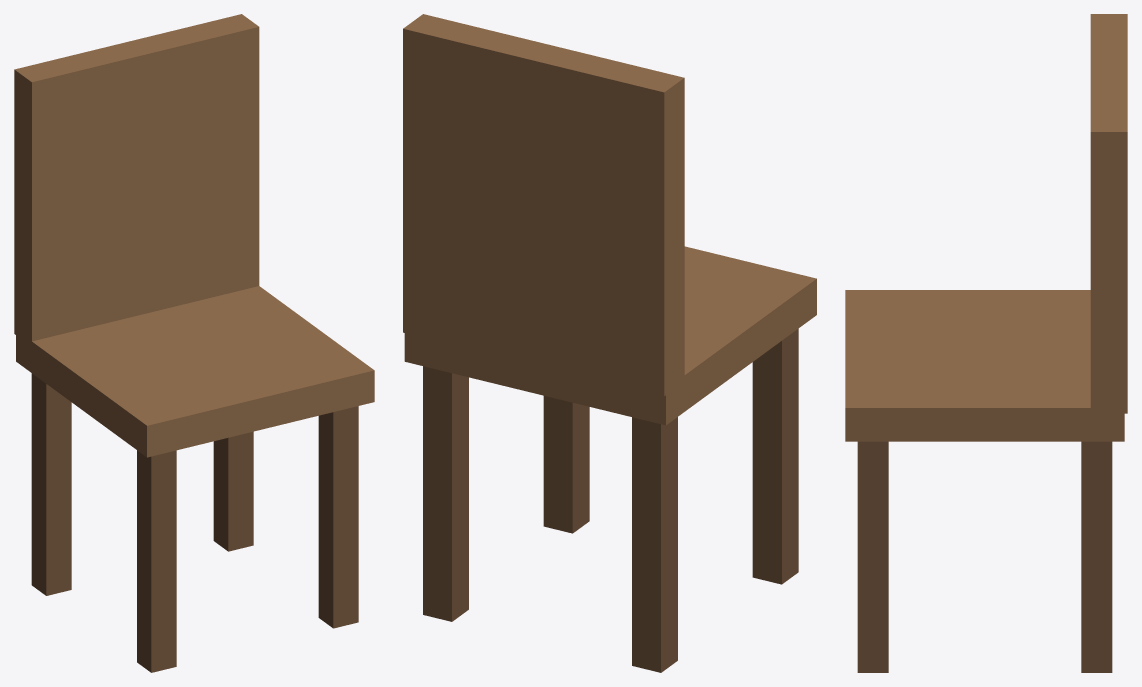
Rendered from chair.glb.
The picture shows the model from 3 angles, left to right: view 1: azimuth 30°, elevation 25°; view 2: azimuth 150°, elevation 25°; view 3: azimuth 270°, elevation 25°; orthographic projection. The views are drawn at different scales.
Visible parts, largest first — view 1: furniture; view 2: furniture; view 3: furniture.
Boxes of the visible parts, <box> form: furniture: <box>14,14,374,672</box>; furniture: <box>403,14,816,672</box>; furniture: <box>845,14,1127,672</box>.
Size of the model in its own units: 0.45 by 0.97 by 0.455.
